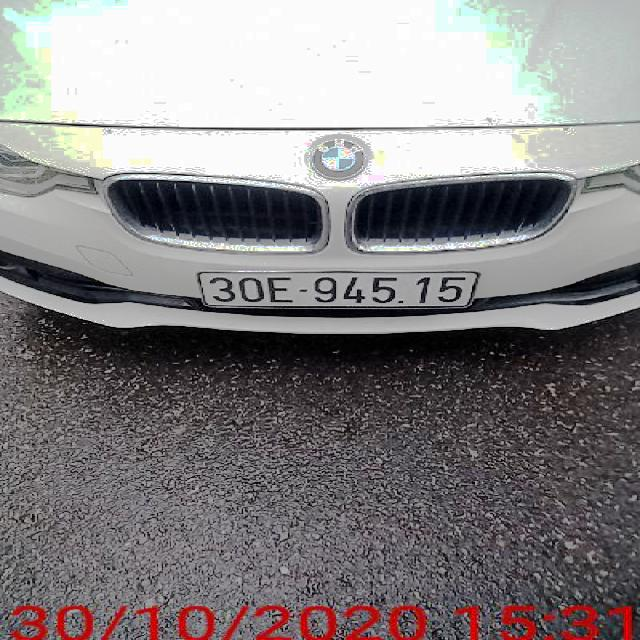license_plate: (198, 272, 481, 309)
